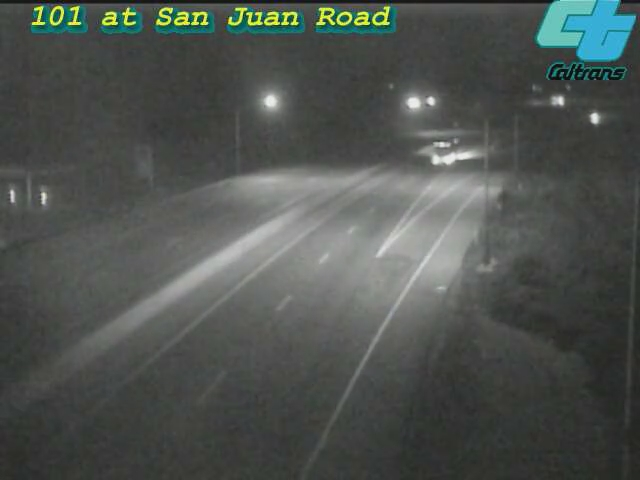vehicle: (572, 92, 622, 142), (423, 125, 473, 175)
